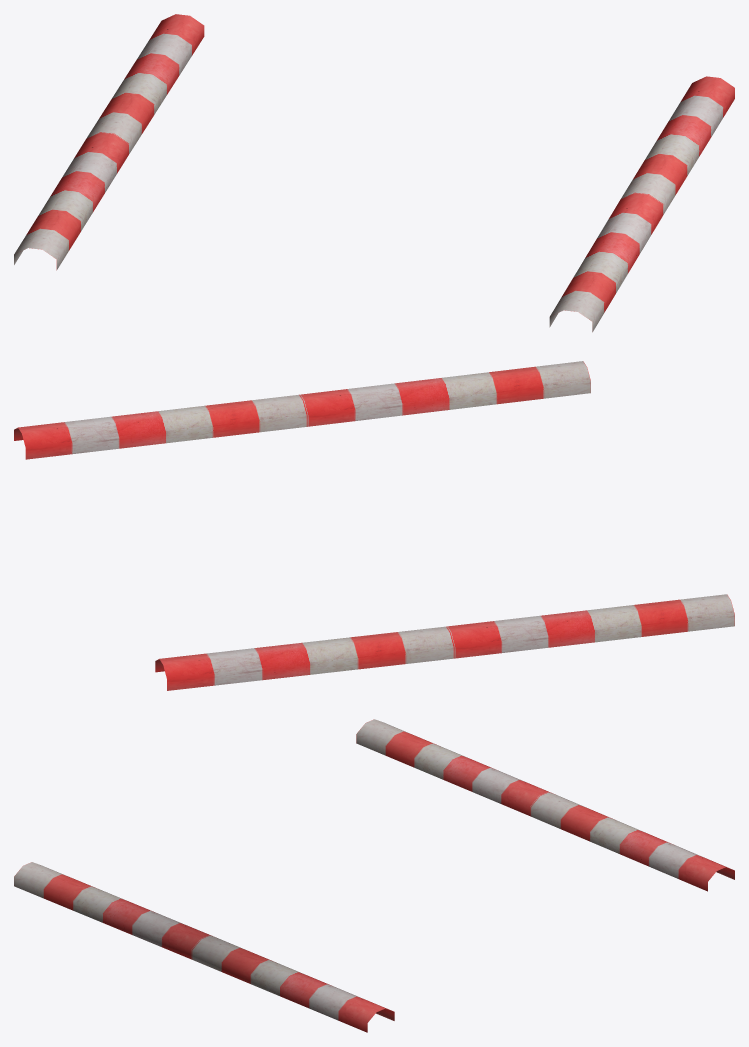
File: crub_track_sand_straight_45_elements.fbx
The picture shows the model from 3 angles, top to bottom: view 1: azimuth 30°, elevation 25°; view 2: azimuth 150°, elevation 25°; view 3: azimuth 270°, elevation 25°; orthographic projection. The views are drawn at different scales.
Visible parts, largest first — view 1: curb_track_straight; view 2: curb_track_straight; view 3: curb_track_straight.
Part boxes in pixels (bbox=[...]): curb_track_straight: bbox=[14, 14, 734, 332]; curb_track_straight: bbox=[14, 361, 734, 690]; curb_track_straight: bbox=[14, 719, 734, 1032].
Bounding box in the file's own units: 249 × 6.43 × 252.
